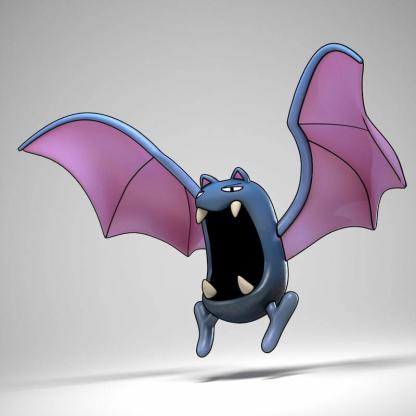Golbat: (12, 38, 416, 380)
